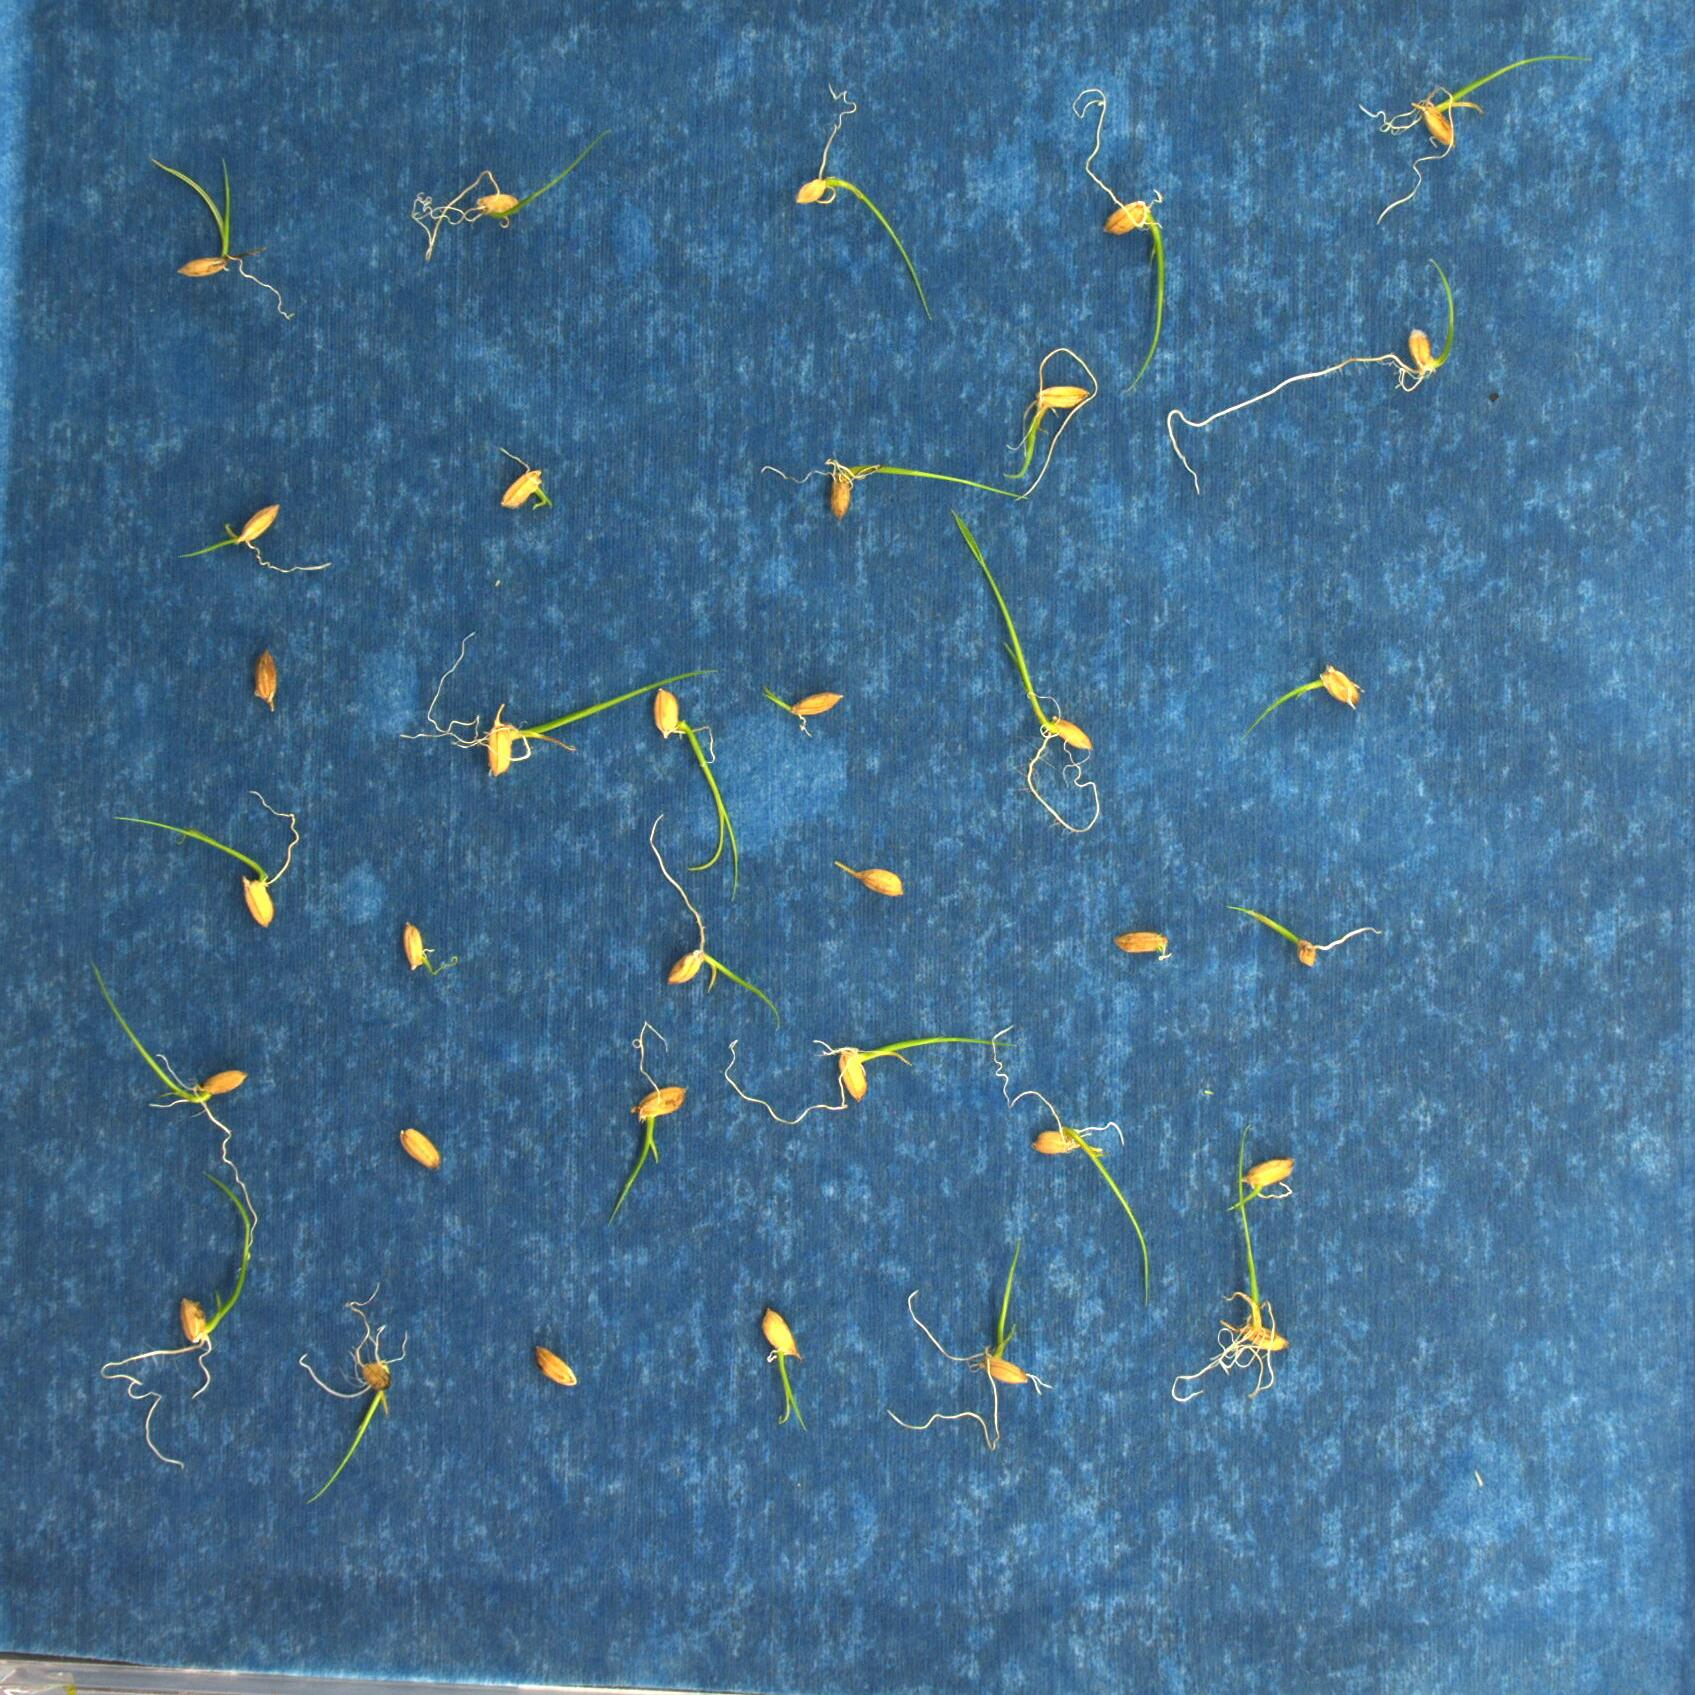not sprout: (832, 854, 905, 900), (531, 1341, 582, 1394), (397, 1125, 445, 1173), (400, 924, 442, 978), (251, 647, 282, 714), (1111, 927, 1172, 961)
sprout: (1163, 256, 1461, 498), (88, 956, 261, 1274), (947, 504, 1107, 838), (989, 1024, 1158, 1310), (96, 1169, 255, 1471), (396, 630, 719, 778), (1357, 45, 1593, 230), (883, 1243, 1054, 1456), (1167, 1118, 1291, 1406), (792, 78, 934, 321), (1069, 81, 1170, 397), (646, 806, 787, 1031), (408, 118, 622, 265), (112, 785, 303, 934), (293, 1281, 416, 1510), (140, 144, 296, 321), (719, 1034, 1012, 1127), (751, 453, 1028, 522), (653, 686, 739, 900), (605, 1035, 691, 1229), (1003, 341, 1102, 504), (180, 501, 338, 577), (1225, 899, 1383, 970), (1243, 664, 1363, 740), (757, 1302, 813, 1437), (754, 680, 841, 744), (490, 441, 554, 514), (1223, 1156, 1296, 1215)
